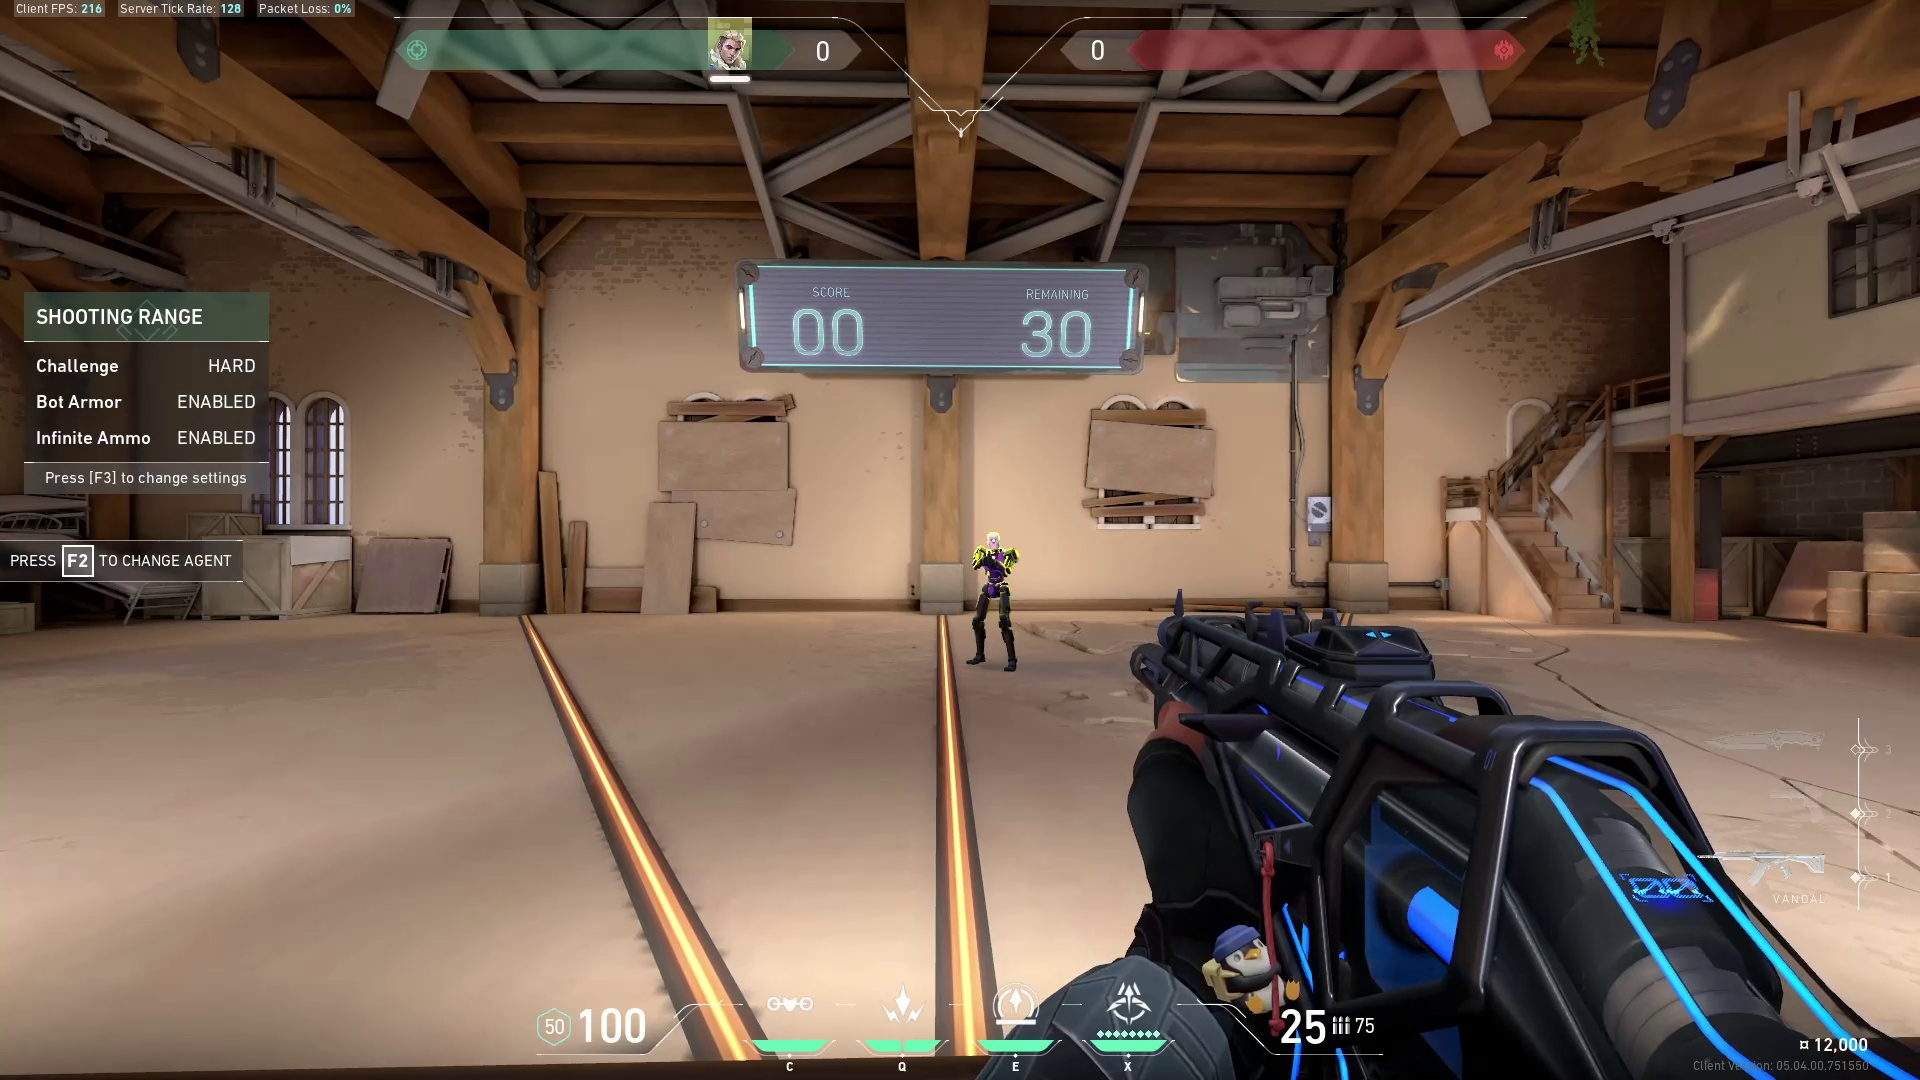enemy_body: (967, 545, 1021, 675)
enemy_head: (984, 527, 1006, 553)
